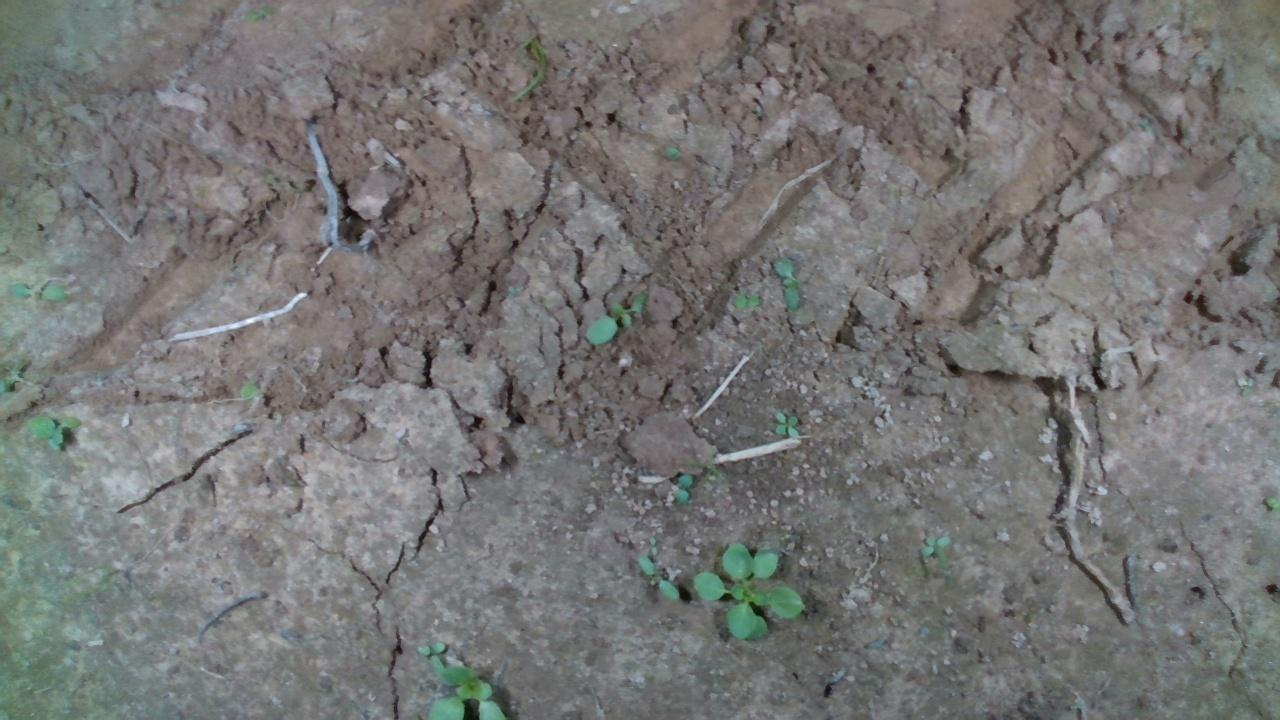weed: (581, 288, 650, 345), (635, 552, 679, 602), (770, 254, 802, 311), (771, 407, 798, 440), (669, 471, 692, 504), (730, 292, 759, 307)
